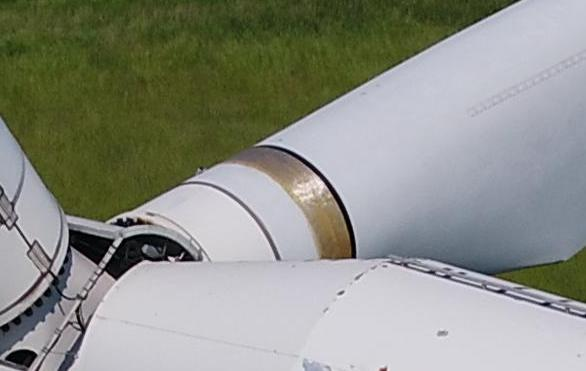damage: (301, 357, 331, 371), (436, 328, 449, 337), (379, 364, 389, 371)
